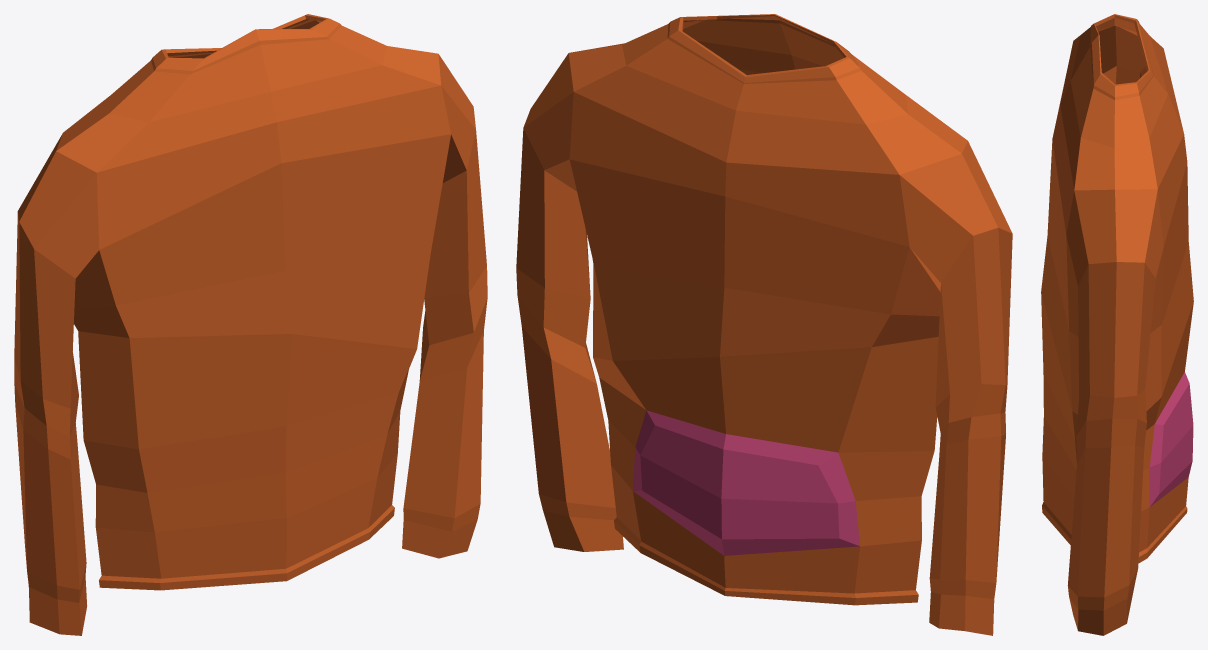
Rendered from 2021hangingshirt1.fbx.
3 renders of one model, left to right at view 1: azimuth 30°, elevation 25°; view 2: azimuth 150°, elevation 25°; view 3: azimuth 270°, elevation 25°, orthographic. The views are drawn at different scales.
Parts seen in each view (by area): view 1: Cylinder; view 2: Cylinder; view 3: Cylinder.
Part boxes in pixels (x1,y1,x2,y2): Cylinder: (14,14,487,635); Cylinder: (516,14,1012,635); Cylinder: (1041,14,1193,635).
Size of the model in its own units: 133 by 154 by 41.84.
